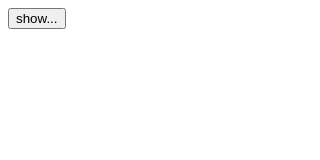
<Togglable /> › toggled content can be closed
Click the button "show...".
click(37, 18)  # box left=8, top=8, right=66, bottom=29
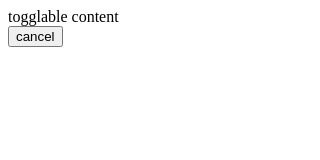
Click the button "cancel".
click(35, 36)  # box left=8, top=26, right=62, bottom=47
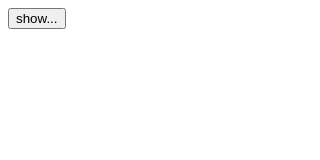
Expected: the text "togglable content" is gone
